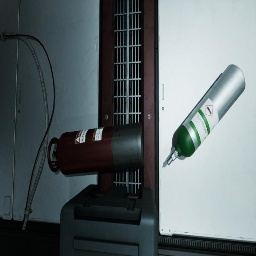0: (166, 64, 246, 166)
NitrogenTank ,: (47, 122, 144, 175)
